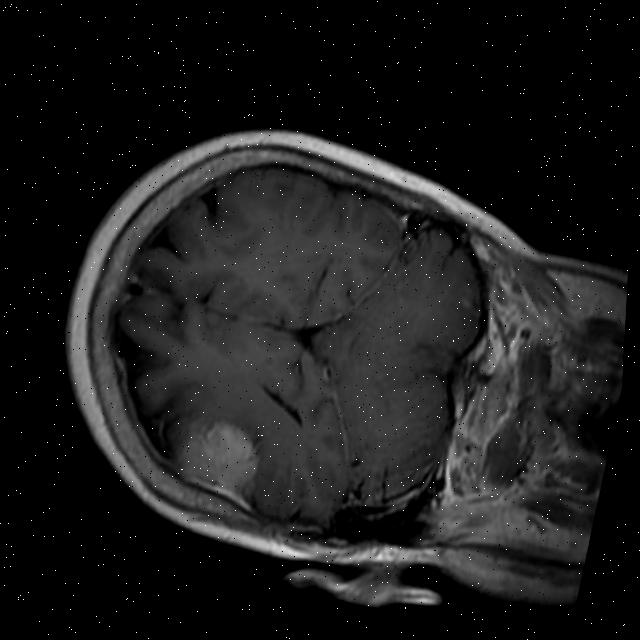Meningioma: (169, 406, 273, 506)
